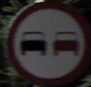No overtake: (9, 7, 84, 76)
